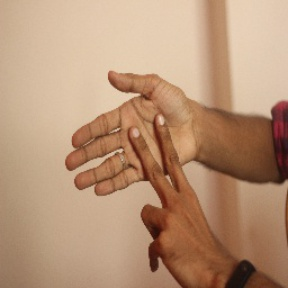N: (62, 63, 221, 264)
